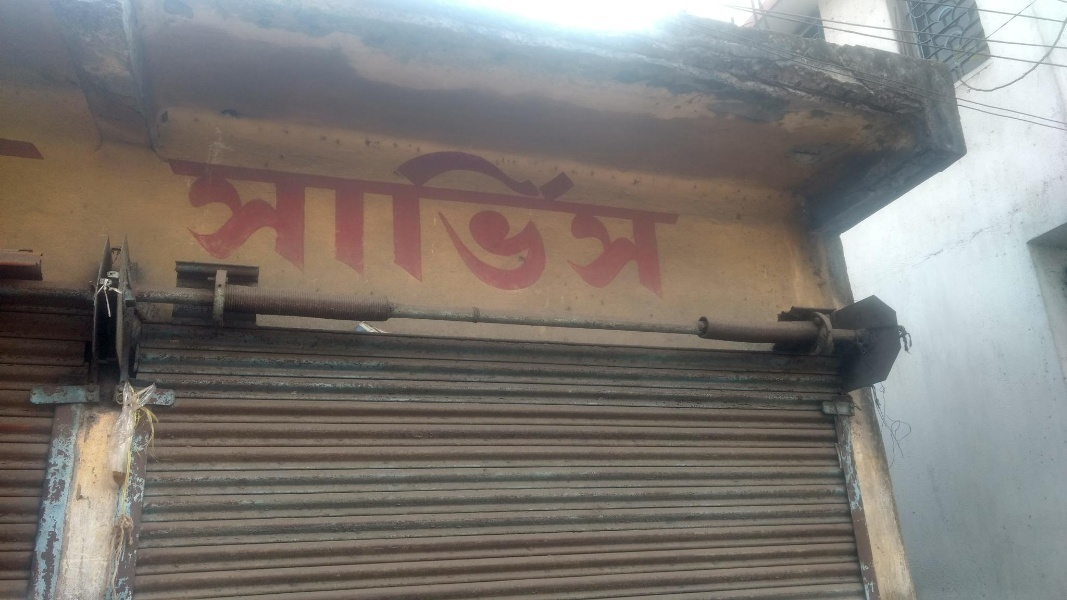text: (177, 119, 192, 313), (193, 119, 208, 313), (209, 119, 224, 313), (225, 119, 240, 313), (241, 119, 256, 313), (257, 119, 272, 313), (273, 119, 288, 313), (289, 119, 304, 313), (305, 119, 320, 313), (321, 119, 336, 313), (337, 119, 352, 313), (353, 119, 368, 313), (369, 119, 384, 313), (385, 119, 400, 313), (401, 119, 416, 313), (417, 119, 432, 313), (433, 119, 448, 313), (449, 119, 464, 313), (465, 119, 480, 313), (481, 119, 496, 313), (497, 119, 512, 313), (513, 119, 528, 313), (529, 119, 544, 313), (545, 119, 560, 313), (561, 119, 576, 313), (577, 119, 592, 313), (593, 119, 608, 313), (609, 119, 624, 313), (625, 119, 640, 313), (641, 119, 656, 313), (657, 119, 672, 313), (673, 119, 688, 313), (172, 119, 176, 313), (689, 119, 690, 313)
